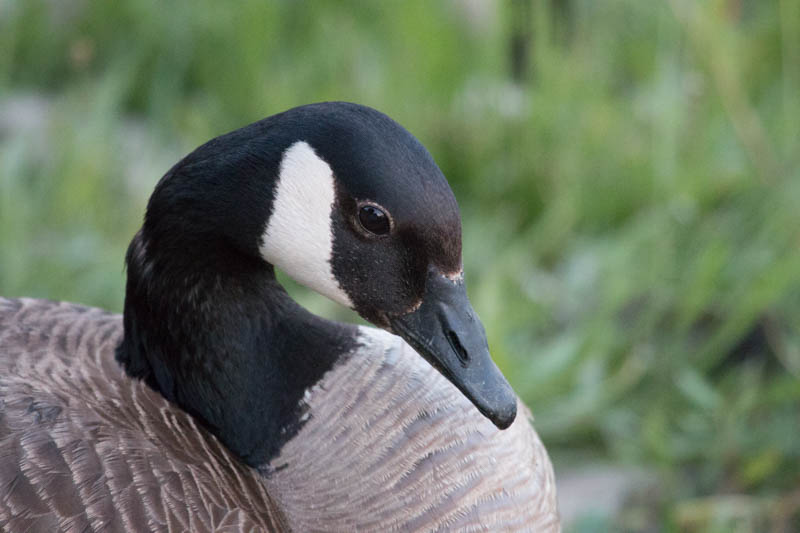goose-head: (221, 100, 518, 431)
